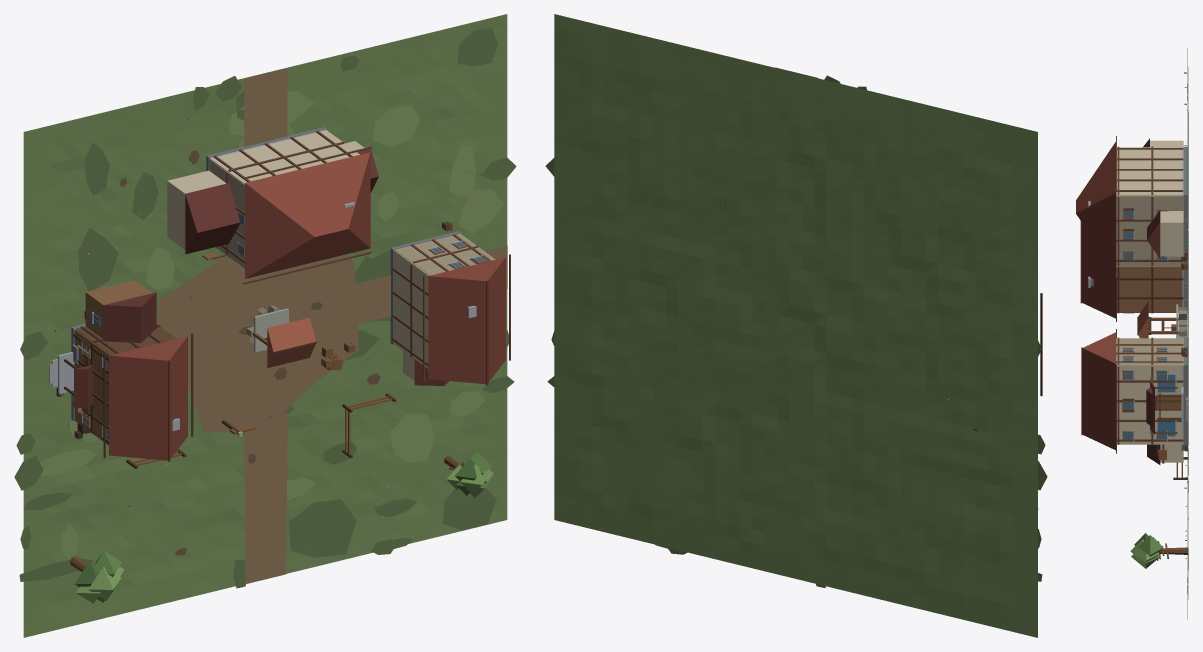
The model's file is worldforge_field_424242.obj.
3 renders of one model, left to right at view 1: azimuth 30°, elevation 25°; view 2: azimuth 150°, elevation 25°; view 3: azimuth 270°, elevation 25°, orthographic. The views are drawn at different scales.
Parts seen in each view (by area): view 1: surface::surfaceGround, surface::plaza, inn::mainRoof, shopE::mainRoof, houseW::mainRoof, surface::plazaSouth, inn::walls, surface::variation_23, inn::steppedWing_roof, surface::plazaNorth, shopE::walls, houseW::steppedWing_roof (+23 smaller); view 2: surface::surfaceGround; view 3: shopE::mainRoof, shopE::walls, inn::mainRoof, inn::walls, houseW::walls, inn::rightWallTone, houseW::mainRoof, shopE::rightWallTone, surface::surfaceGround, inn::extension, inn::foundation, shopE::foundation (+20 smaller).
Part boxes in pixels (x1,y1,x2,y2): surface::surfaceGround: (23,14,507,637); surface::plaza: (157,254,358,432); inn::mainRoof: (245,152,370,278); shopE::mainRoof: (428,257,505,384); houseW::mainRoof: (109,336,187,460); surface::plazaSouth: (244,412,287,584); inn::walls: (210,130,359,268); surface::variation_23: (288,499,356,557); inn::steppedWing_roof: (185,183,240,254); surface::plazaNorth: (244,68,287,146); shopE::walls: (394,234,495,368); houseW::steppedWing_roof: (103,292,156,342); surface::surfaceGround: (554,14,1037,637); shopE::mainRoof: (1082,332,1116,450); shopE::walls: (1116,338,1182,444); inn::mainRoof: (1076,142,1116,272); inn::walls: (1116,147,1182,266); houseW::walls: (1117,266,1182,312); inn::rightWallTone: (1116,196,1182,265); houseW::mainRoof: (1082,223,1115,318); shopE::rightWallTone: (1116,338,1182,365); surface::surfaceGround: (1187,48,1188,619); inn::extension: (1160,211,1183,256); inn::foundation: (1183,146,1187,263); shopE::foundation: (1183,337,1187,445).
Size of the model in its own units: 35.32 by 34.69 by 8.16.
